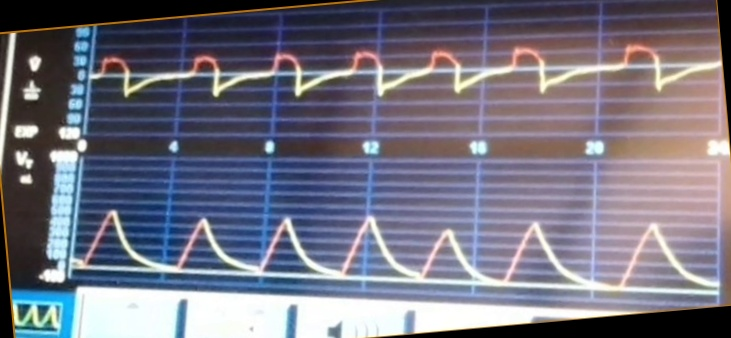Normal Flow: (93, 28, 719, 120)
Normal Volume: (75, 198, 717, 293)
